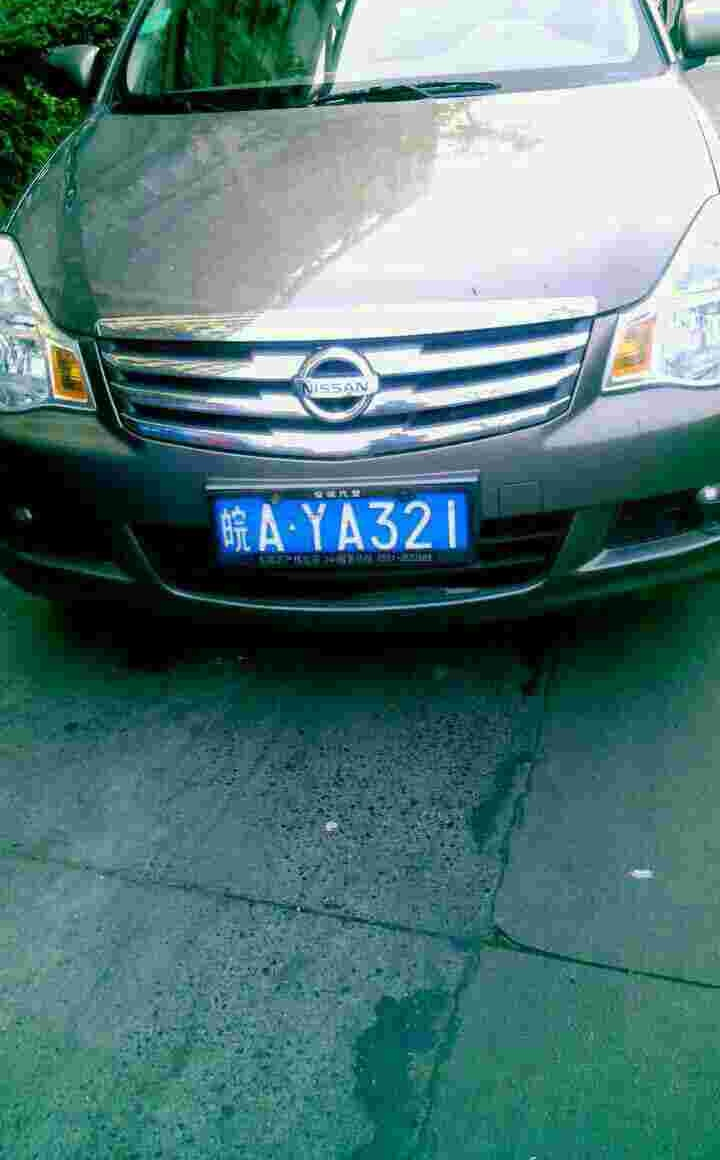plate: (213, 484, 482, 569)
